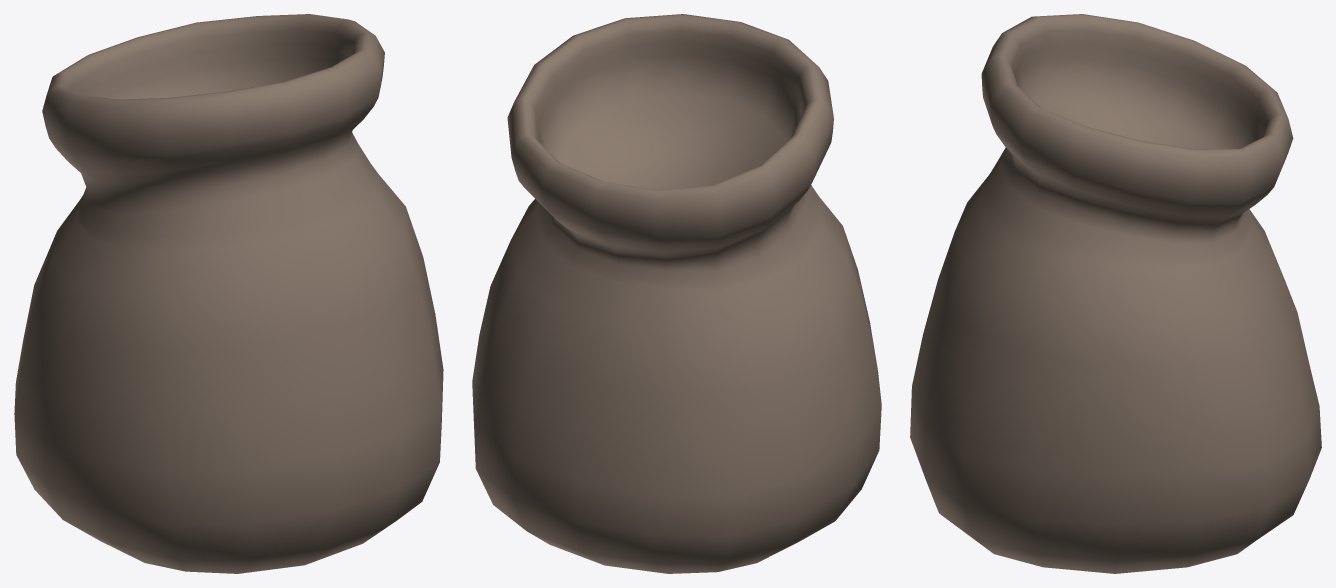
File: model_sacoaberto2_01.fbx
The picture shows the model from 3 angles, left to right: view 1: azimuth 30°, elevation 25°; view 2: azimuth 150°, elevation 25°; view 3: azimuth 270°, elevation 25°; orthographic projection. The views are drawn at different scales.
Visible parts, largest first — view 1: saco torto; view 2: saco torto; view 3: saco torto.
Boxes of the visible parts, <box> form: saco torto: <box>14,14,443,573</box>; saco torto: <box>472,14,881,573</box>; saco torto: <box>910,14,1321,573</box>.
Bounding box in the file's own units: 233 × 292 × 231.
